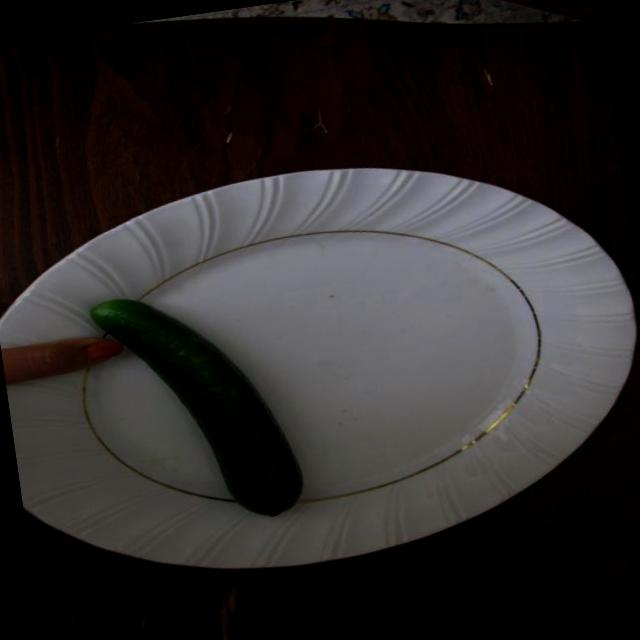Cucumber: (84, 270, 332, 546)
Finger: (27, 326, 132, 382)
